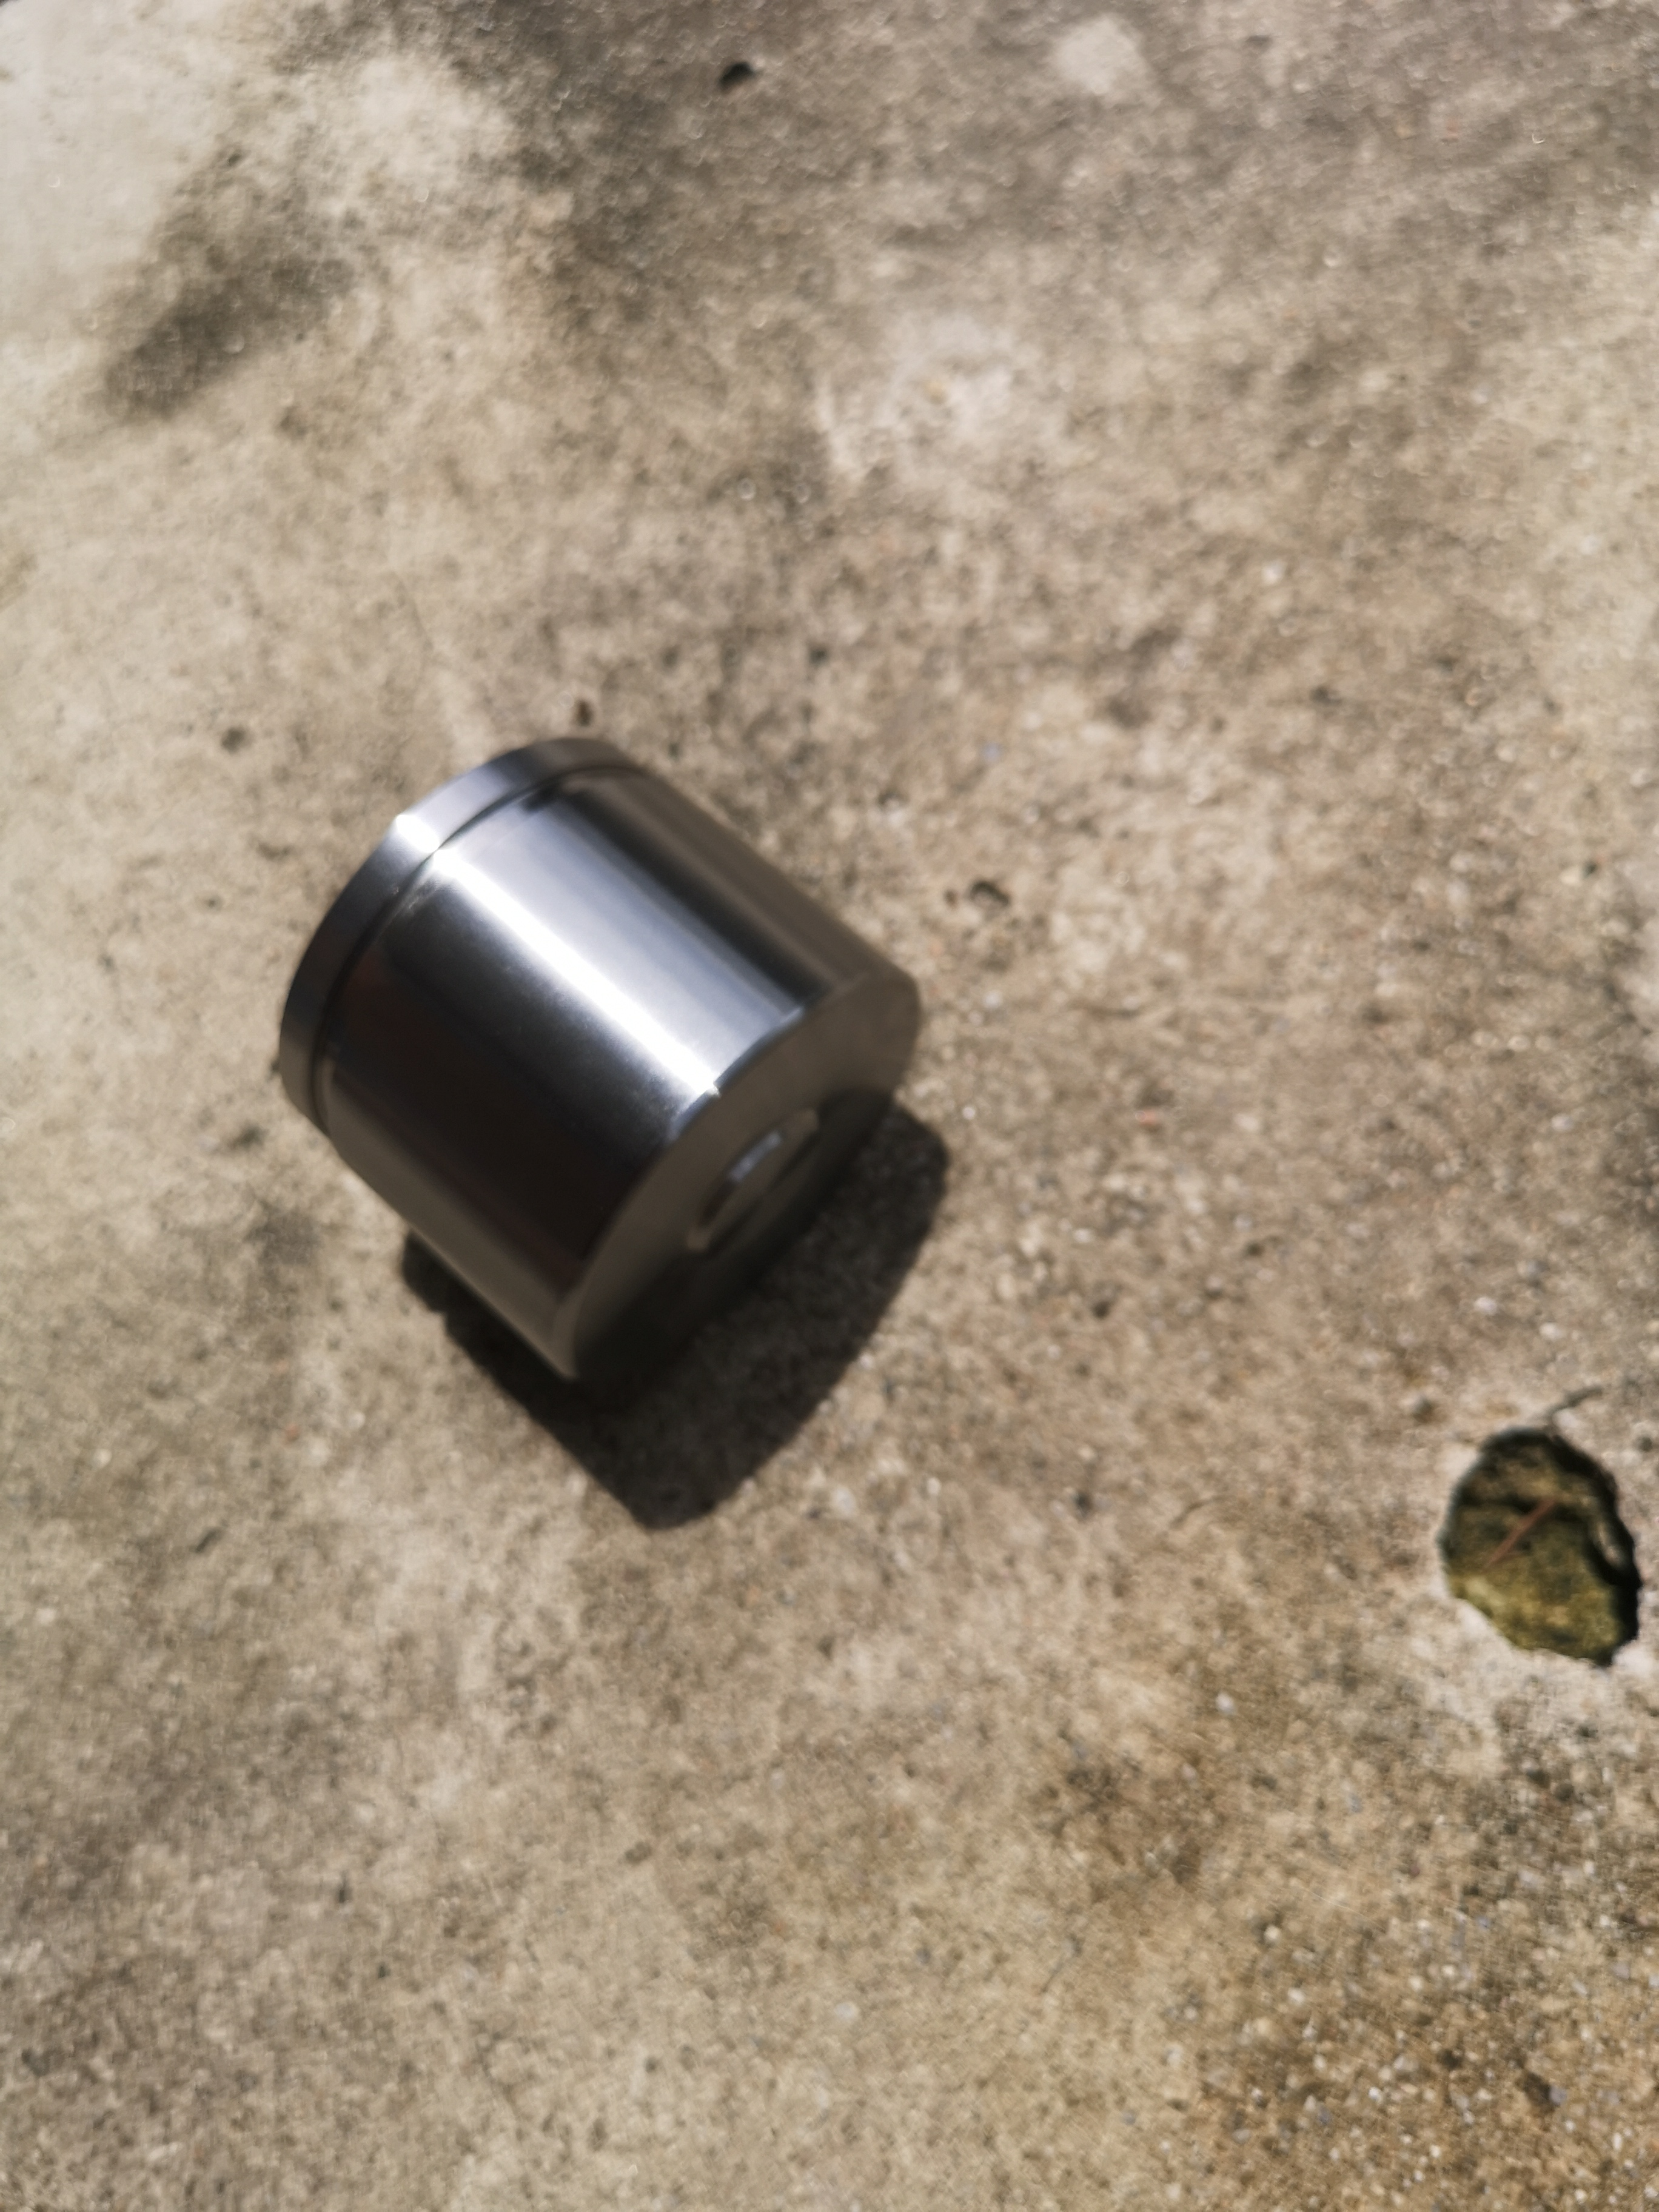ลูกสูบดิสเบรค: (164, 723, 939, 1440)
